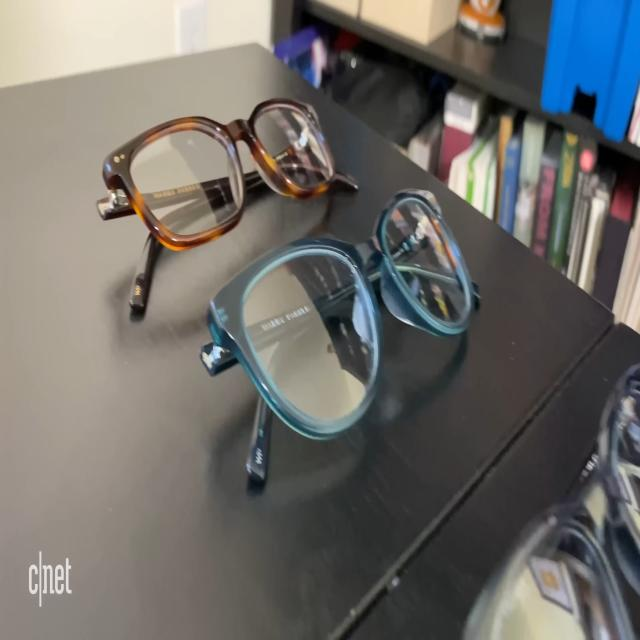glasses: (204, 183, 479, 445), (105, 86, 342, 259)
